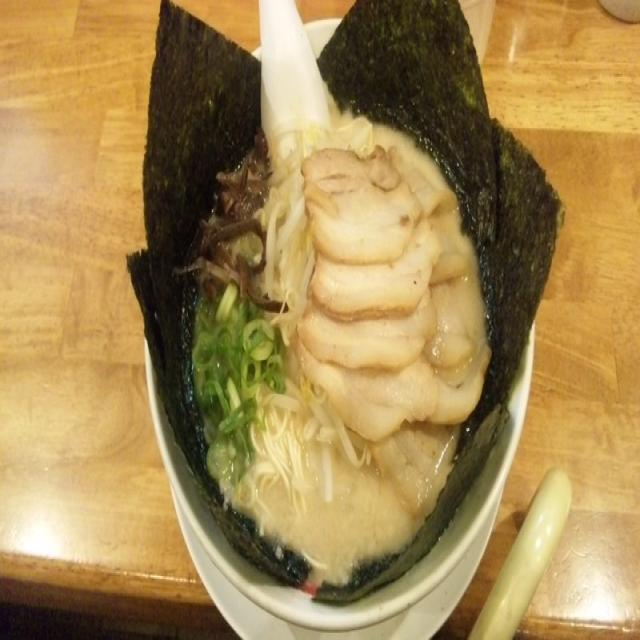面条主食: (147, 104, 510, 592)
